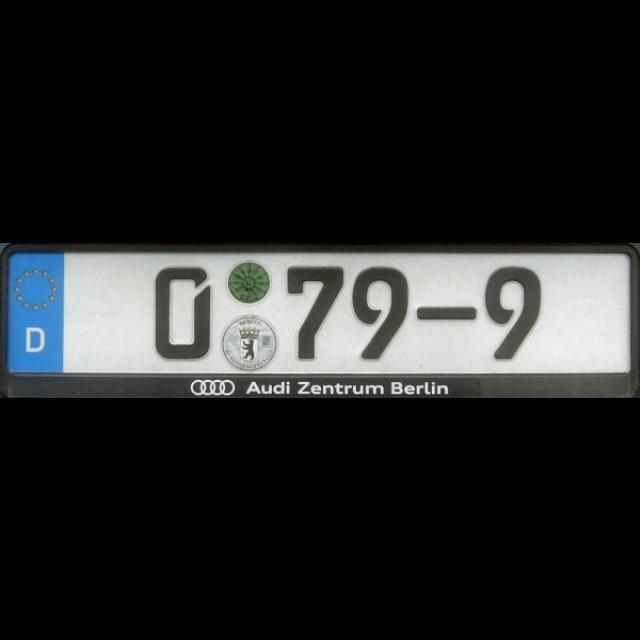license-plates: (6, 252, 632, 376)
